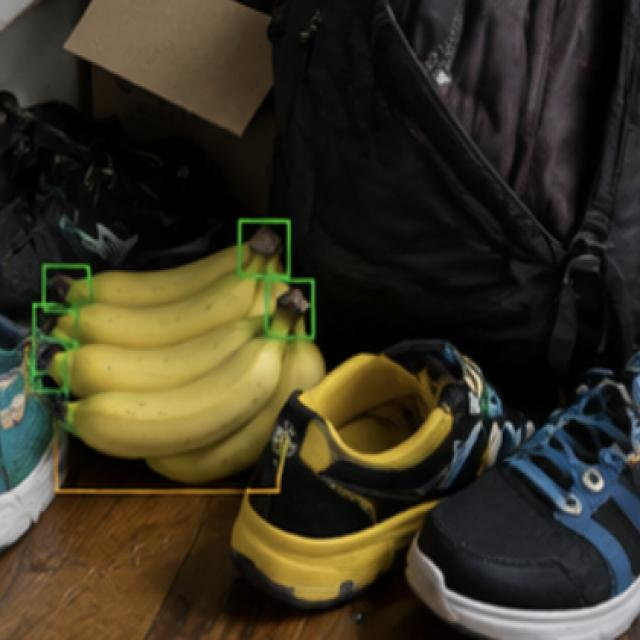Fruit-Stem-Detection: (241, 206, 325, 347)
